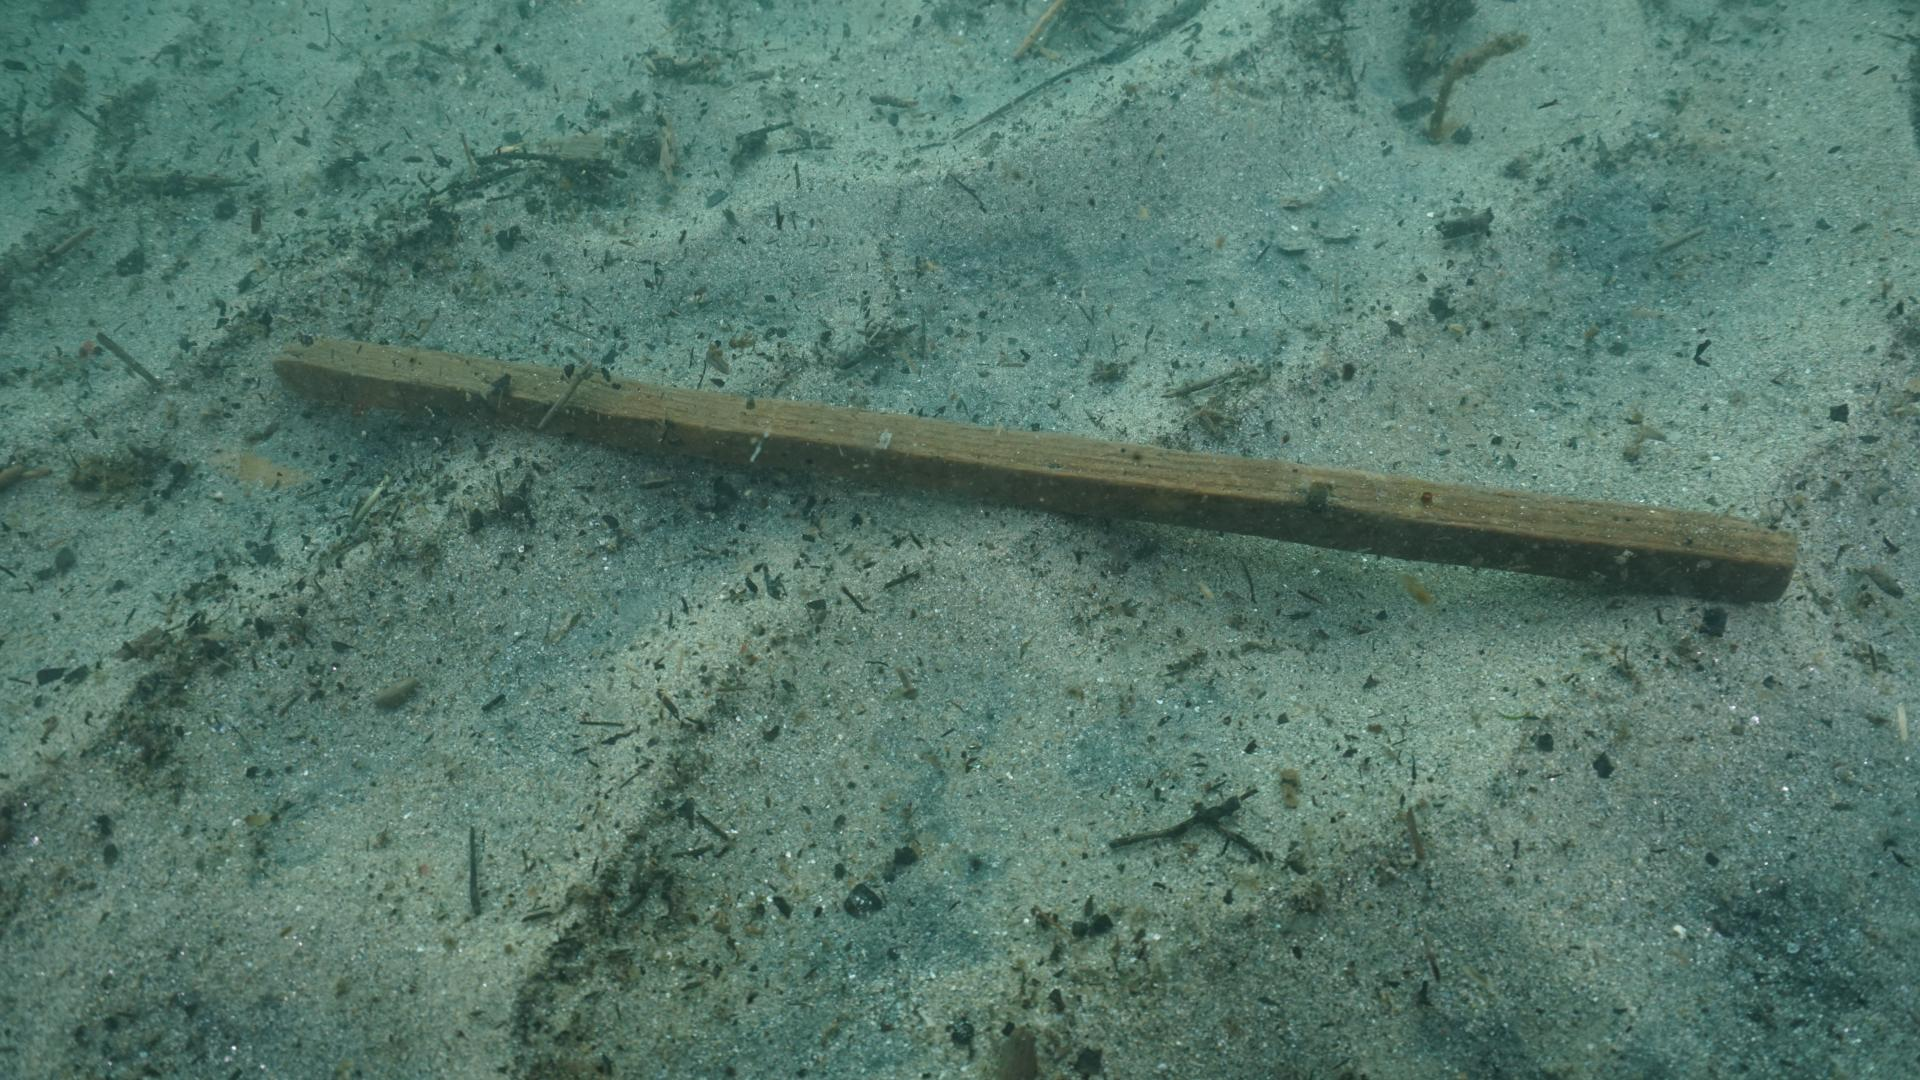wood: (270, 331, 1796, 605)
